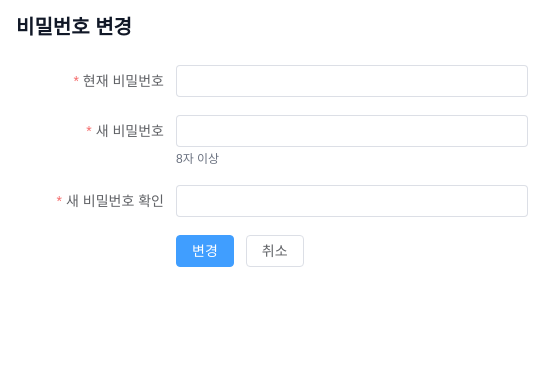
Test case: PasswordChangeView › 401 AUTH_INVALID_CREDENTIALS 응답 시 currentMismatch 오류 메시지 표시
In the password field with test id "input-current": (352, 81) [187, 66, 517, 96], type "WrongPass1!"
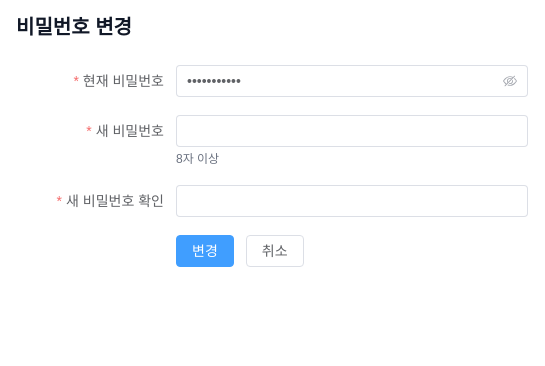
In the password field with test id "input-new": (352, 131) [187, 116, 517, 146], type "NewPass1@#"
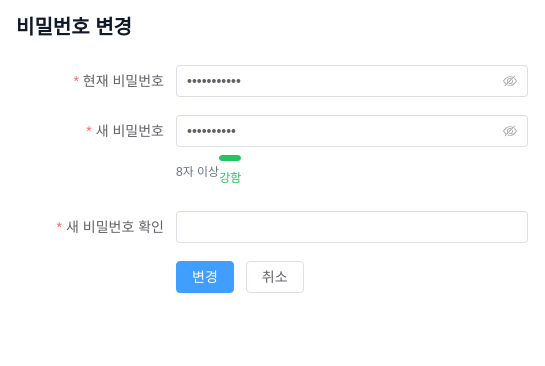
In the password field with test id "input-confirm": (352, 227) [187, 212, 517, 242], type "NewPass1@#"
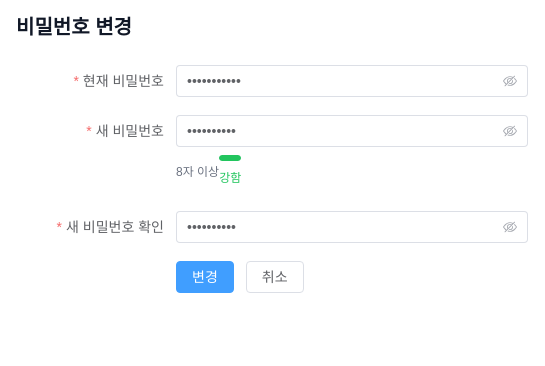
Submit the form, box [16, 65, 528, 293]
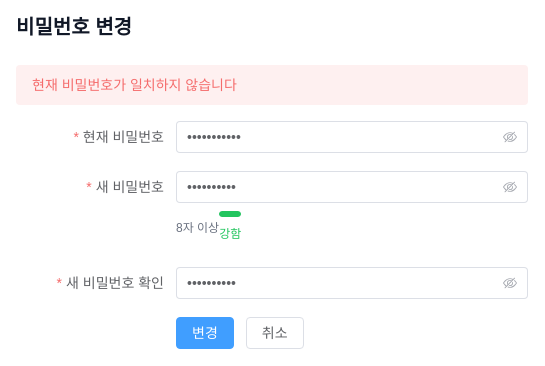
Now the message "현재 비밀번호가 일치하지 않습니다" is shown, box [16, 65, 528, 105]
Now the message with test id "error-alert" reads "현재 비밀번호가 일치하지 않습니다", box [32, 77, 237, 93]
